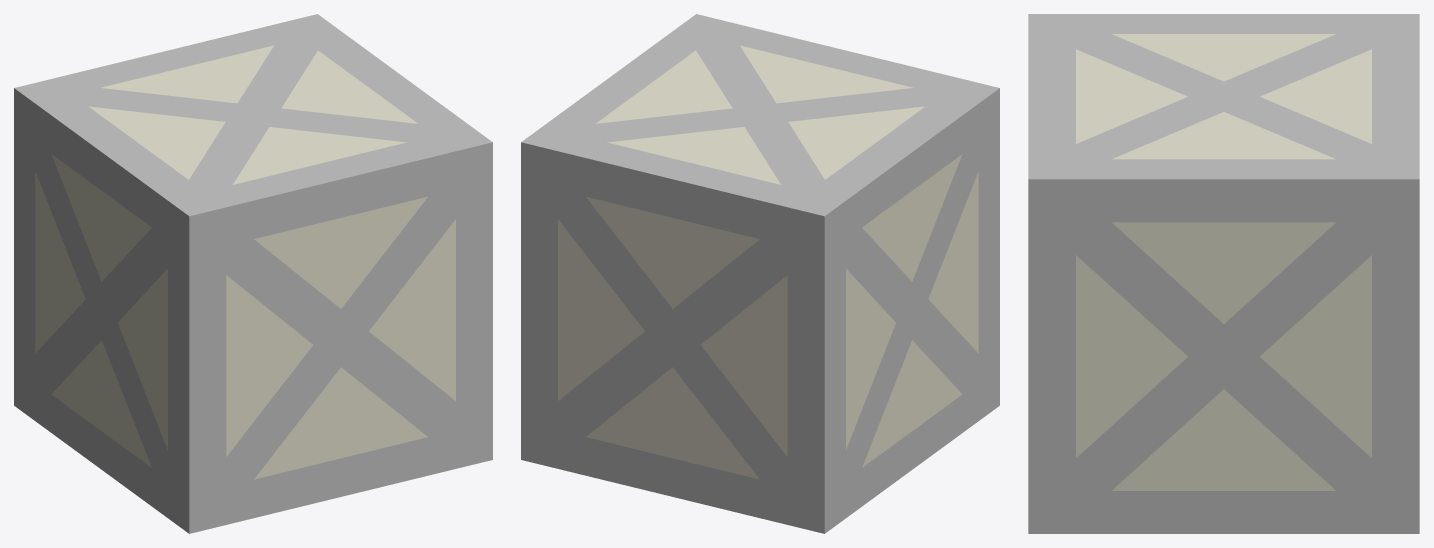
File: deco_structure_2.glb
3 views of the same model, side by side, from view 1: azimuth 30°, elevation 25°; view 2: azimuth 150°, elevation 25°; view 3: azimuth 270°, elevation 25° (orthographic). The views are drawn at different scales.
Visible parts, largest first — view 1: deco_structure_2; view 2: deco_structure_2; view 3: deco_structure_2.
Part boxes in pixels (bbox=[...]): deco_structure_2: bbox=[14, 14, 492, 533]; deco_structure_2: bbox=[521, 14, 999, 533]; deco_structure_2: bbox=[1028, 14, 1419, 533].
Size of the model in its own units: 1 by 1 by 1.
